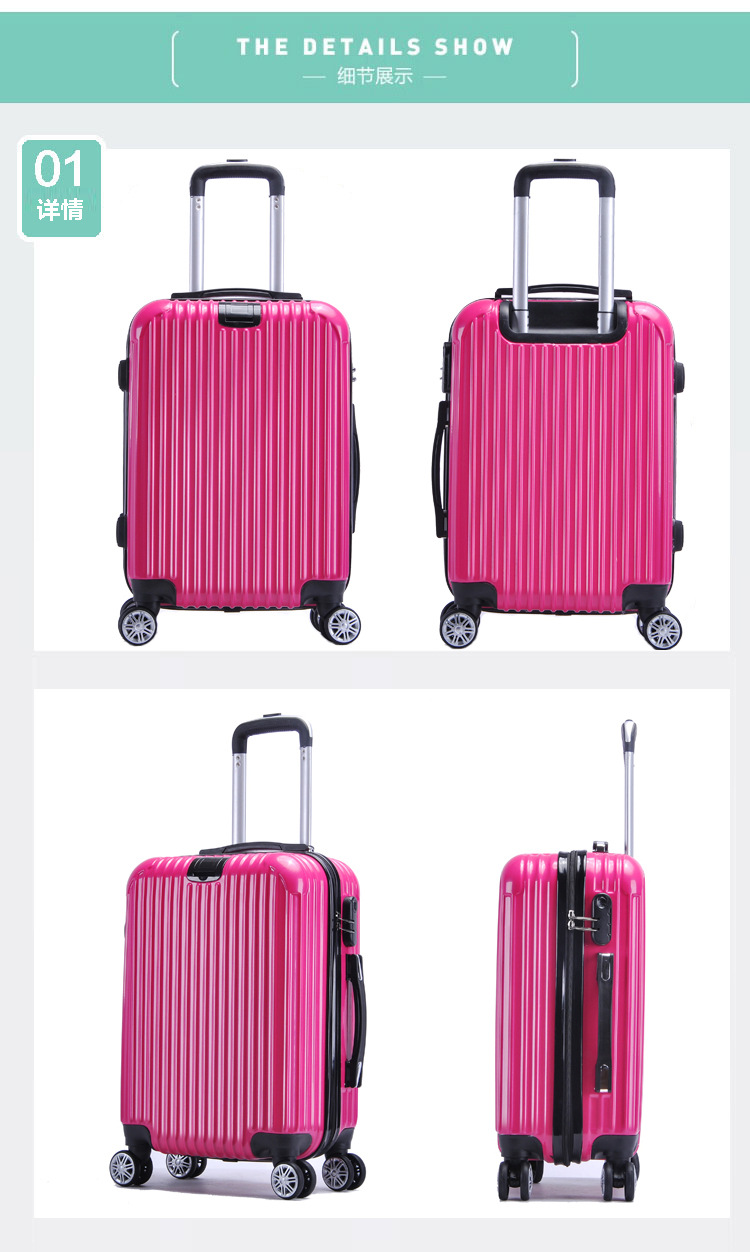luggage: (430, 154, 688, 651), (110, 710, 368, 1196), (114, 158, 363, 642), (496, 714, 648, 1200)
